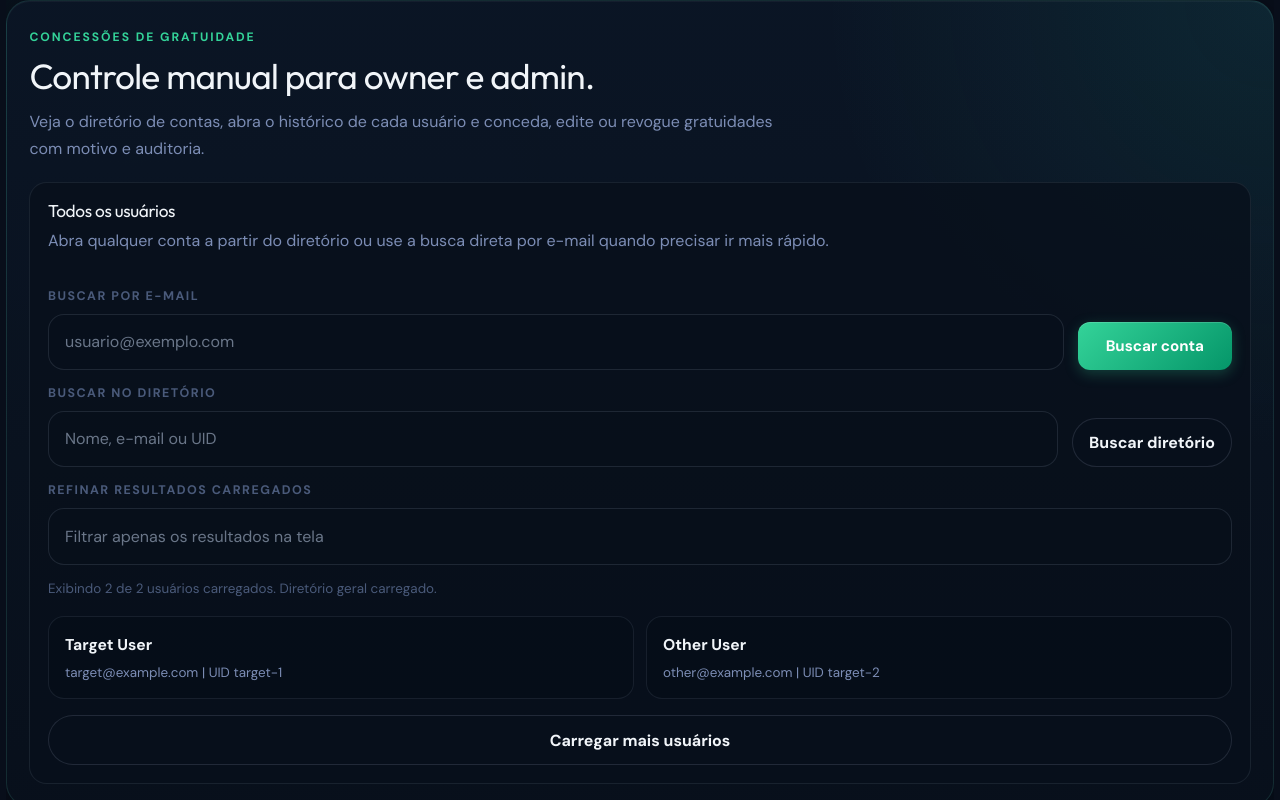
Test: BillingManualGrantsConsole › loads the user directory and opens a selected account
expect the text "Other User" is shown: met, box [663,634,746,655]
Step 1. Click the button "Target User target@example.com | UID target-1" → (109, 644), box [48,616,634,700]
(page scrolled)
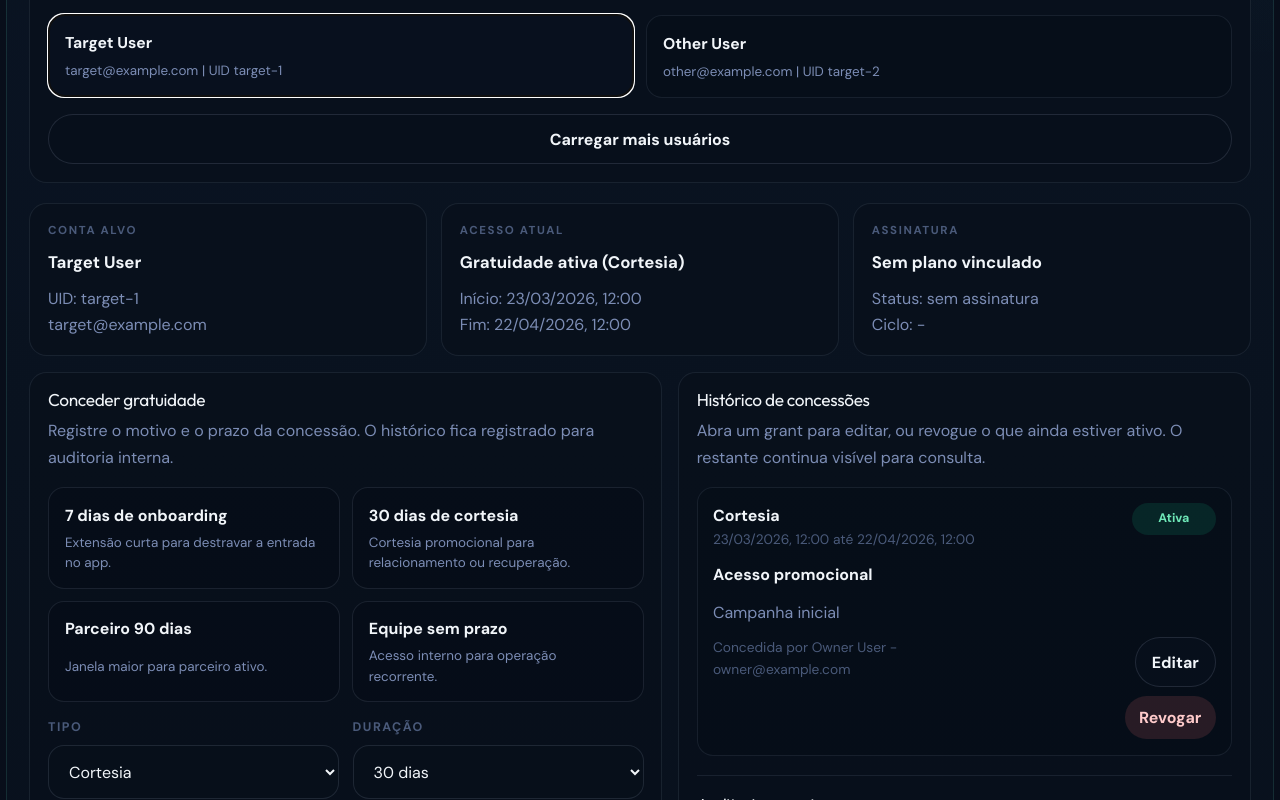
expect the text "Acesso promocional" is shown: met, box [713,564,873,585]
expect the heading "Conceder gratuidade" is shown: met, box [48,390,205,410]
